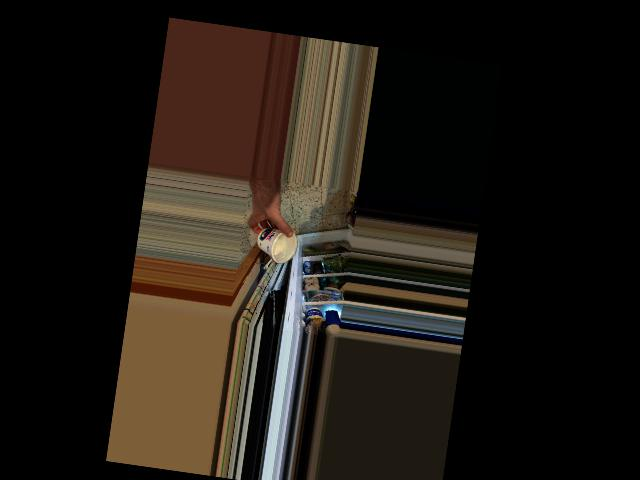cotage: (254, 224, 295, 262)
